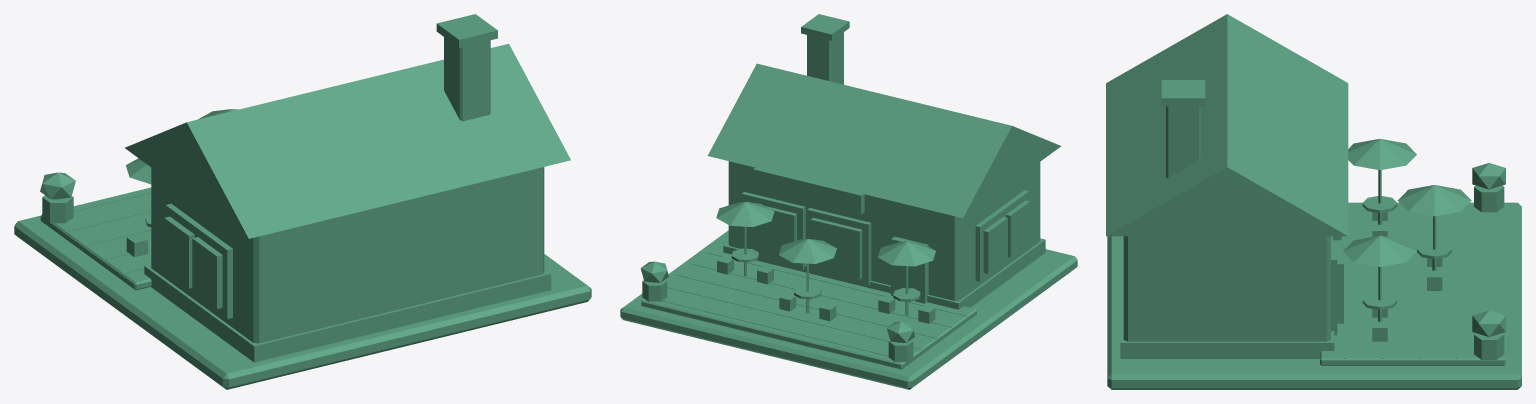
3 views of the same model, side by side, from view 1: azimuth 30°, elevation 25°; view 2: azimuth 150°, elevation 25°; view 3: azimuth 270°, elevation 25° (orthographic). The views are drawn at different scales.
Visible parts, largest first — view 1: corpo; view 2: corpo; view 3: corpo.
Boxes of the visible parts, x1,y1,x2,y2 form: corpo: [14, 14, 591, 389]; corpo: [620, 14, 1077, 389]; corpo: [1106, 14, 1521, 389].
Bounding box in the file's own units: 1.9 × 1.32 × 1.91.
